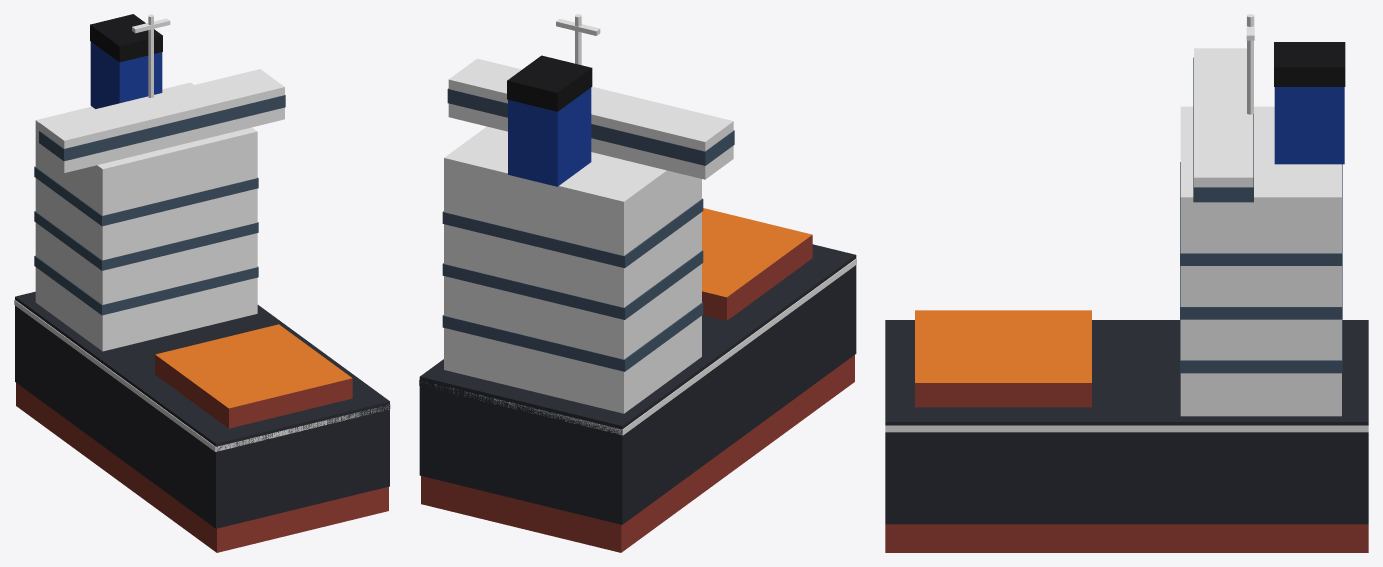
The model's file is granelero_popa.obj.
The picture shows the model from 3 angles, left to right: view 1: azimuth 30°, elevation 25°; view 2: azimuth 150°, elevation 25°; view 3: azimuth 270°, elevation 25°; orthographic projection. The views are drawn at different scales.
Parts seen in each view (by area): view 1: granelero_popa; view 2: granelero_popa; view 3: granelero_popa.
Part boxes in pixels (left/top/right/bottom): granelero_popa: left=14, top=14, right=390, bottom=552; granelero_popa: left=419, top=14, right=856, bottom=552; granelero_popa: left=885, top=14, right=1368, bottom=552.
Bounding box in the file's own units: 11.45 × 20 × 18.
